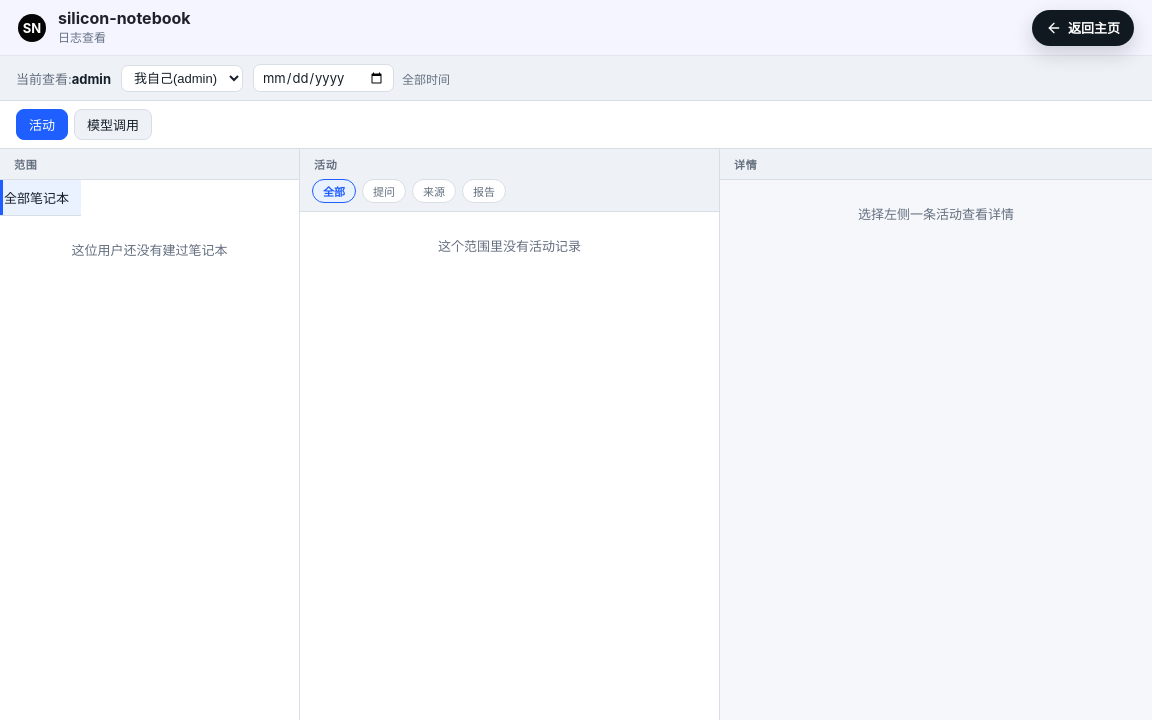
切换用户后忽略较晚返回的旧用户列表
The image size is (1152, 720).
Click the button "模型调用" at [113, 124], box [74,109,152,140]
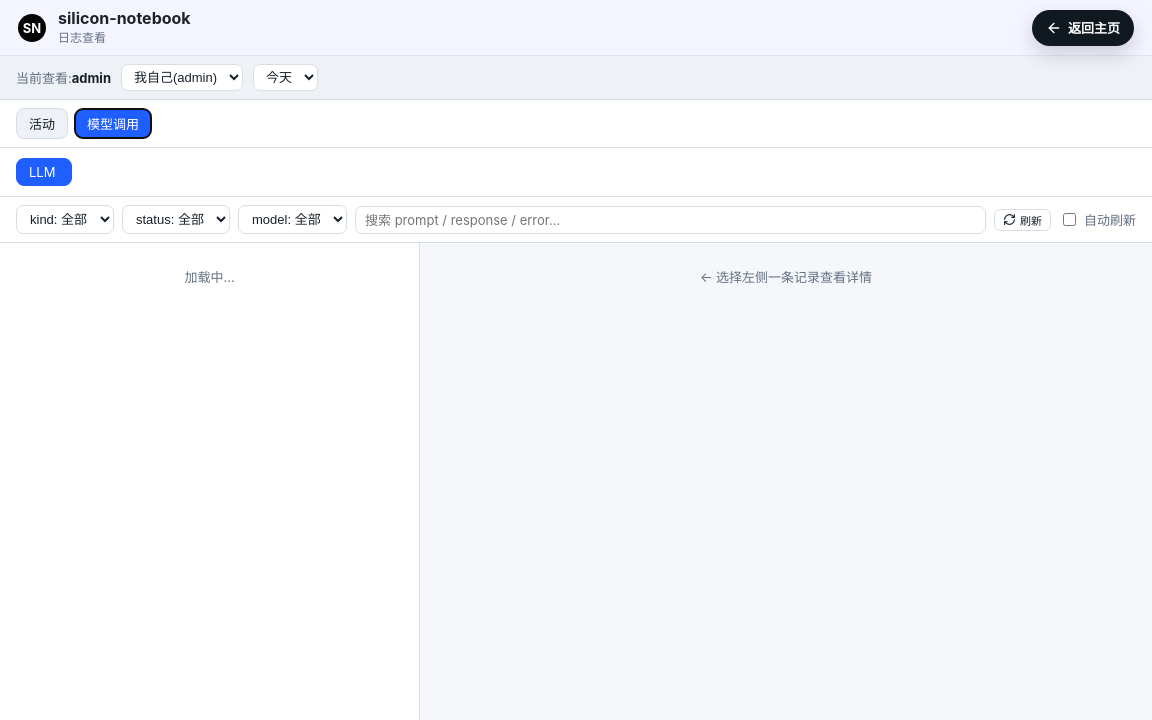
Select "a00123456" in the dropdown with class "logview-owner-select" at [182, 78], box [121,64,243,91]
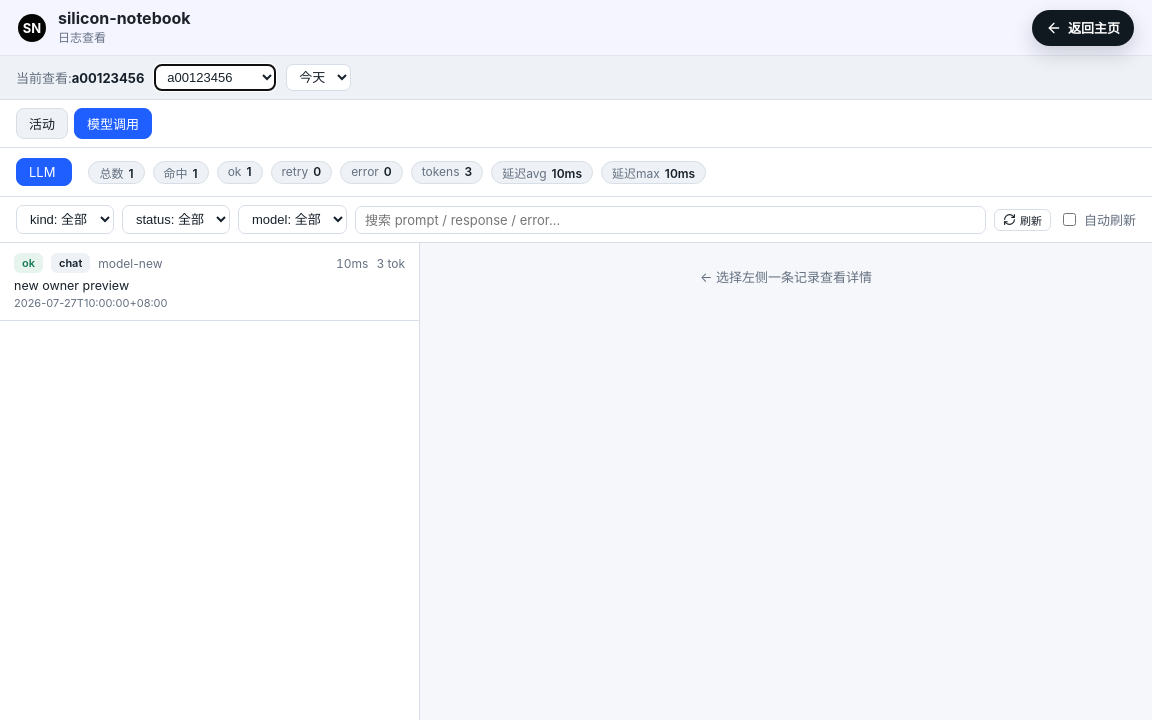
Expected: the text "new owner preview" is shown, [14,278,129,293]
